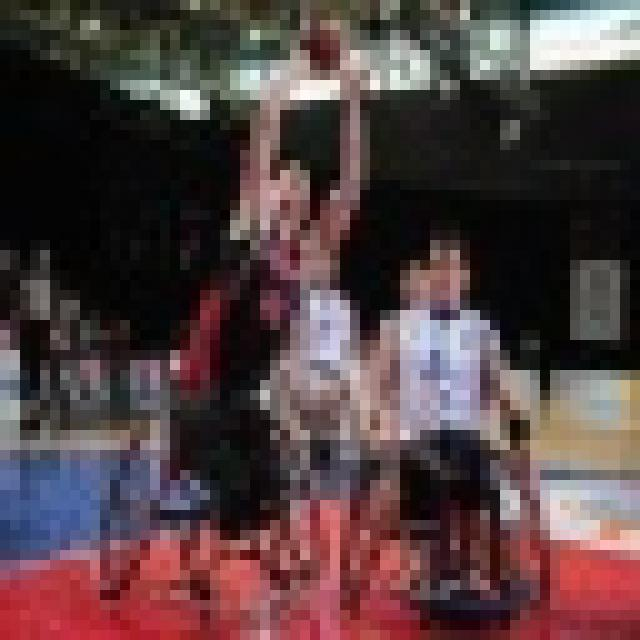wheelchairs: (335, 411, 563, 609), (94, 392, 331, 577)
